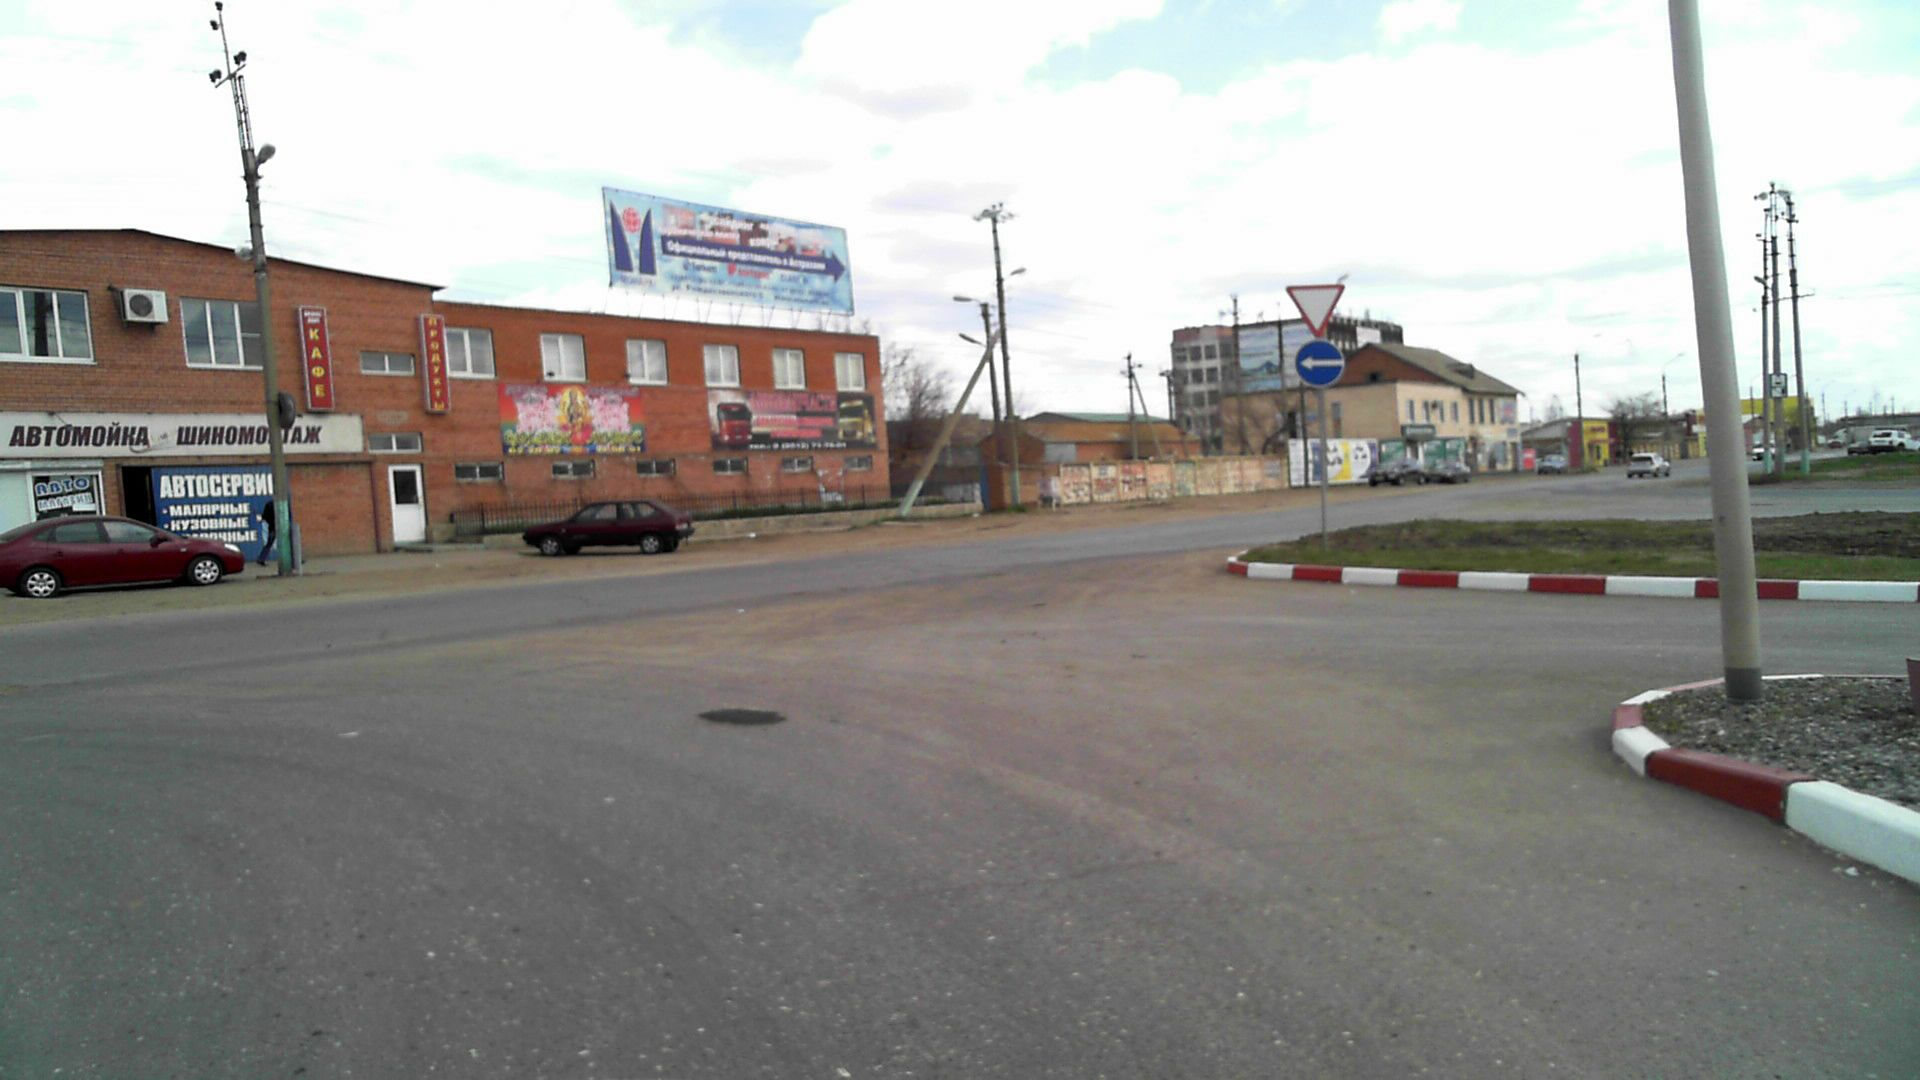Turn Left: (1295, 340, 1345, 386)
